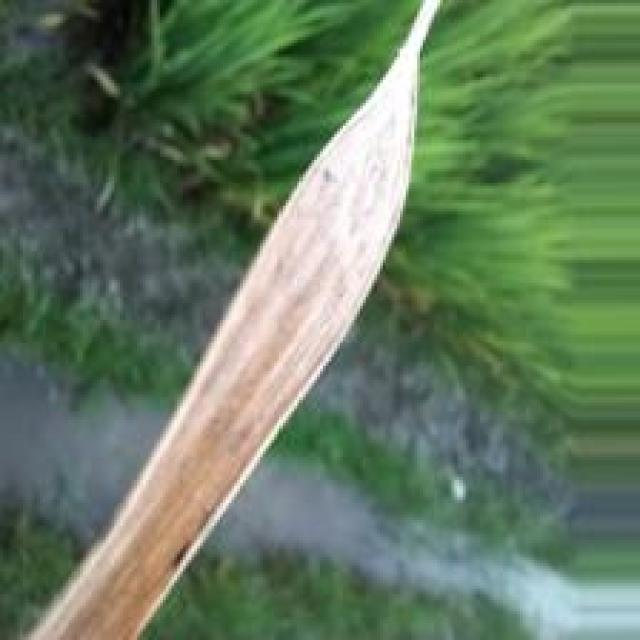Rice False Smut: (22, 64, 412, 640)
